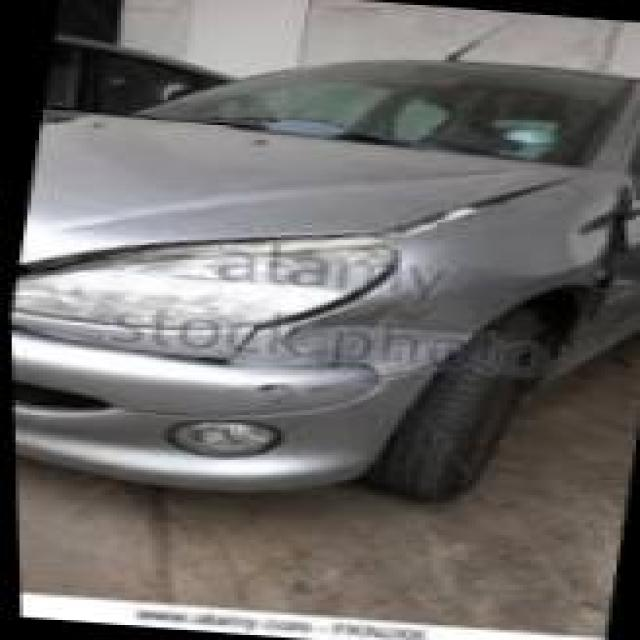Bonnet: (11, 104, 611, 294)
Bumper: (9, 330, 430, 487)
Fender: (217, 168, 623, 370)
